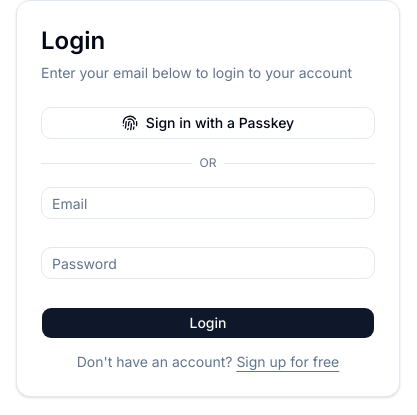
LoginForm Component › shows loading state during submission
Type "test@example.com" into the field with placeholder "Email" at [208, 203], box [41,187,375,219]
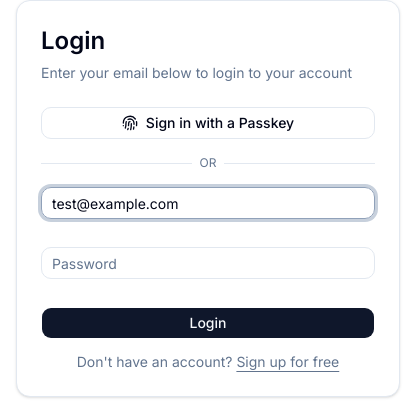
Type "password123" into the password field with placeholder "Password" at [208, 263], box [41,247,375,279]
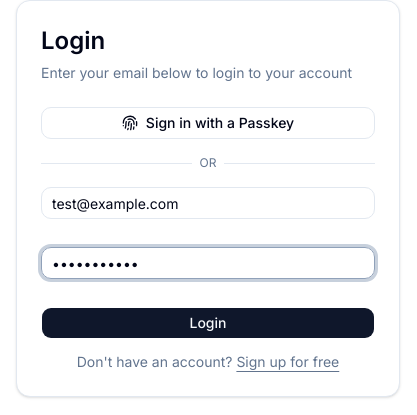
Click the button "Login" at [208, 323], box [41,307,375,339]
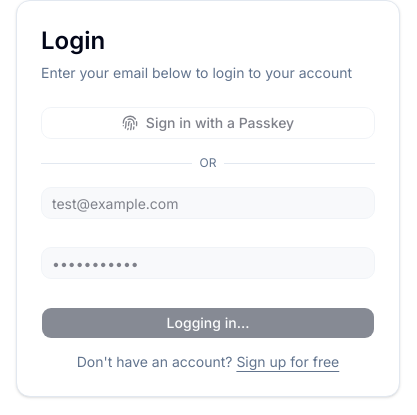
Result: the button named "Login" reads "Logging in..." at [41,307,375,339]
Result: the button named "Login" is disabled at [41,307,375,339]
